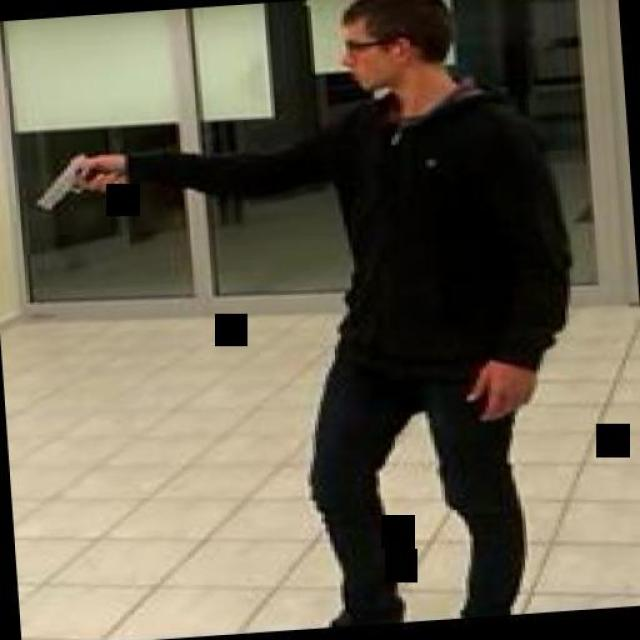gun: (26, 144, 124, 211)
